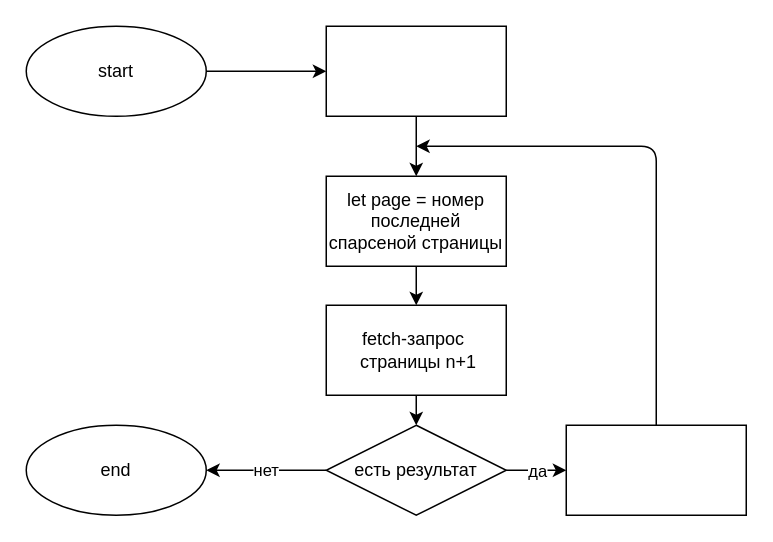
Some shapes in this 773 by 542 pixel diagram are drawn without their labels. Here are the shapes that lost their labels. From the top down, the centre of each, then its label:
(415,70): соединяемся с бд
(655,469): записываем результат в бд
